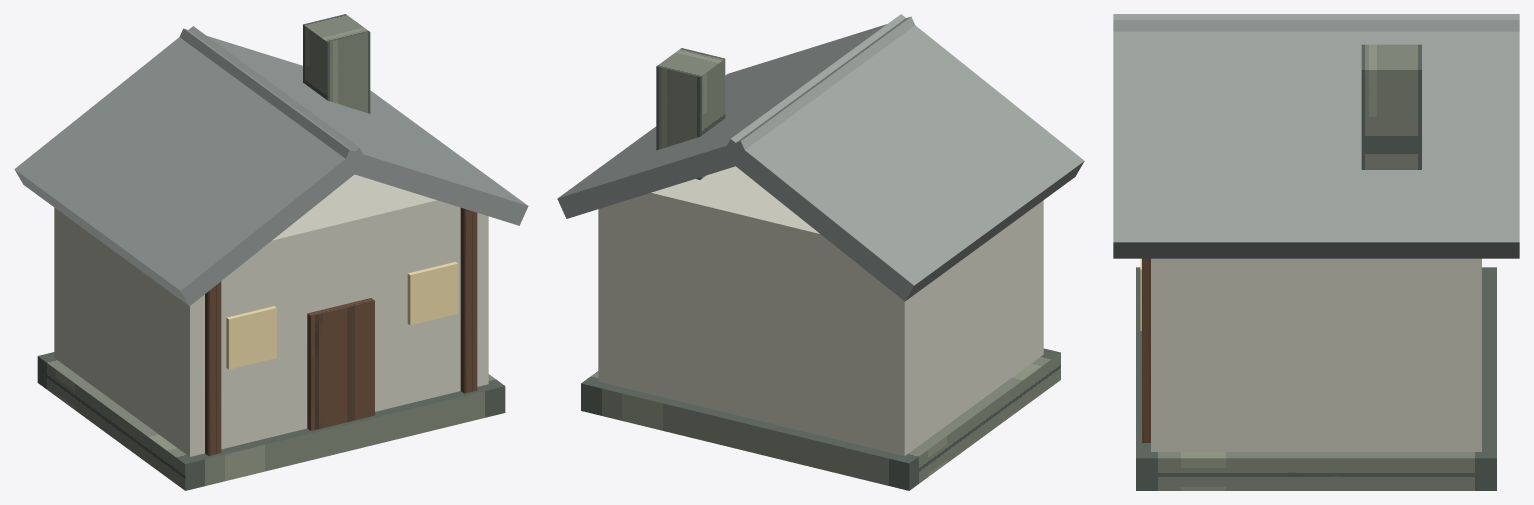
The model's file is building_smithy.glb.
3 renders of one model, left to right at view 1: azimuth 30°, elevation 25°; view 2: azimuth 150°, elevation 25°; view 3: azimuth 270°, elevation 25°, orthographic. The views are drawn at different scales.
Visible parts, largest first — view 1: Body, Roof, Foundation, Roof.001, Door, Chimney, Timber.001, Timber, Window.001, Window; view 2: Body, Roof, Foundation, Roof.001, Chimney; view 3: Roof.001, Body, Foundation, Chimney, Roof, Timber.001.
Part boxes in pixels (x1,y1,x2,y2): Body: (54,174,488,456); Roof: (14,26,368,306); Foundation: (37,352,505,490); Roof.001: (179,28,528,225); Door: (307,298,374,430); Chimney: (303,14,370,113); Timber.001: (460,208,477,393); Timber: (205,281,221,455); Window.001: (407,262,458,325); Window: (226,306,276,369); Body: (598,166,1043,455); Roof: (722,14,1084,301); Foundation: (581,348,1060,490); Roof.001: (557,16,915,218); Chimney: (656,48,725,179); Roof.001: (1113,14,1519,258); Body: (1151,258,1481,451); Foundation: (1136,267,1496,490); Chimney: (1361,44,1421,169); Roof: (1113,20,1519,31); Timber.001: (1142,258,1150,442).
Bounding box in the file's own units: 3.26 × 2.9 × 2.7.
5 materials, 2 textured.
